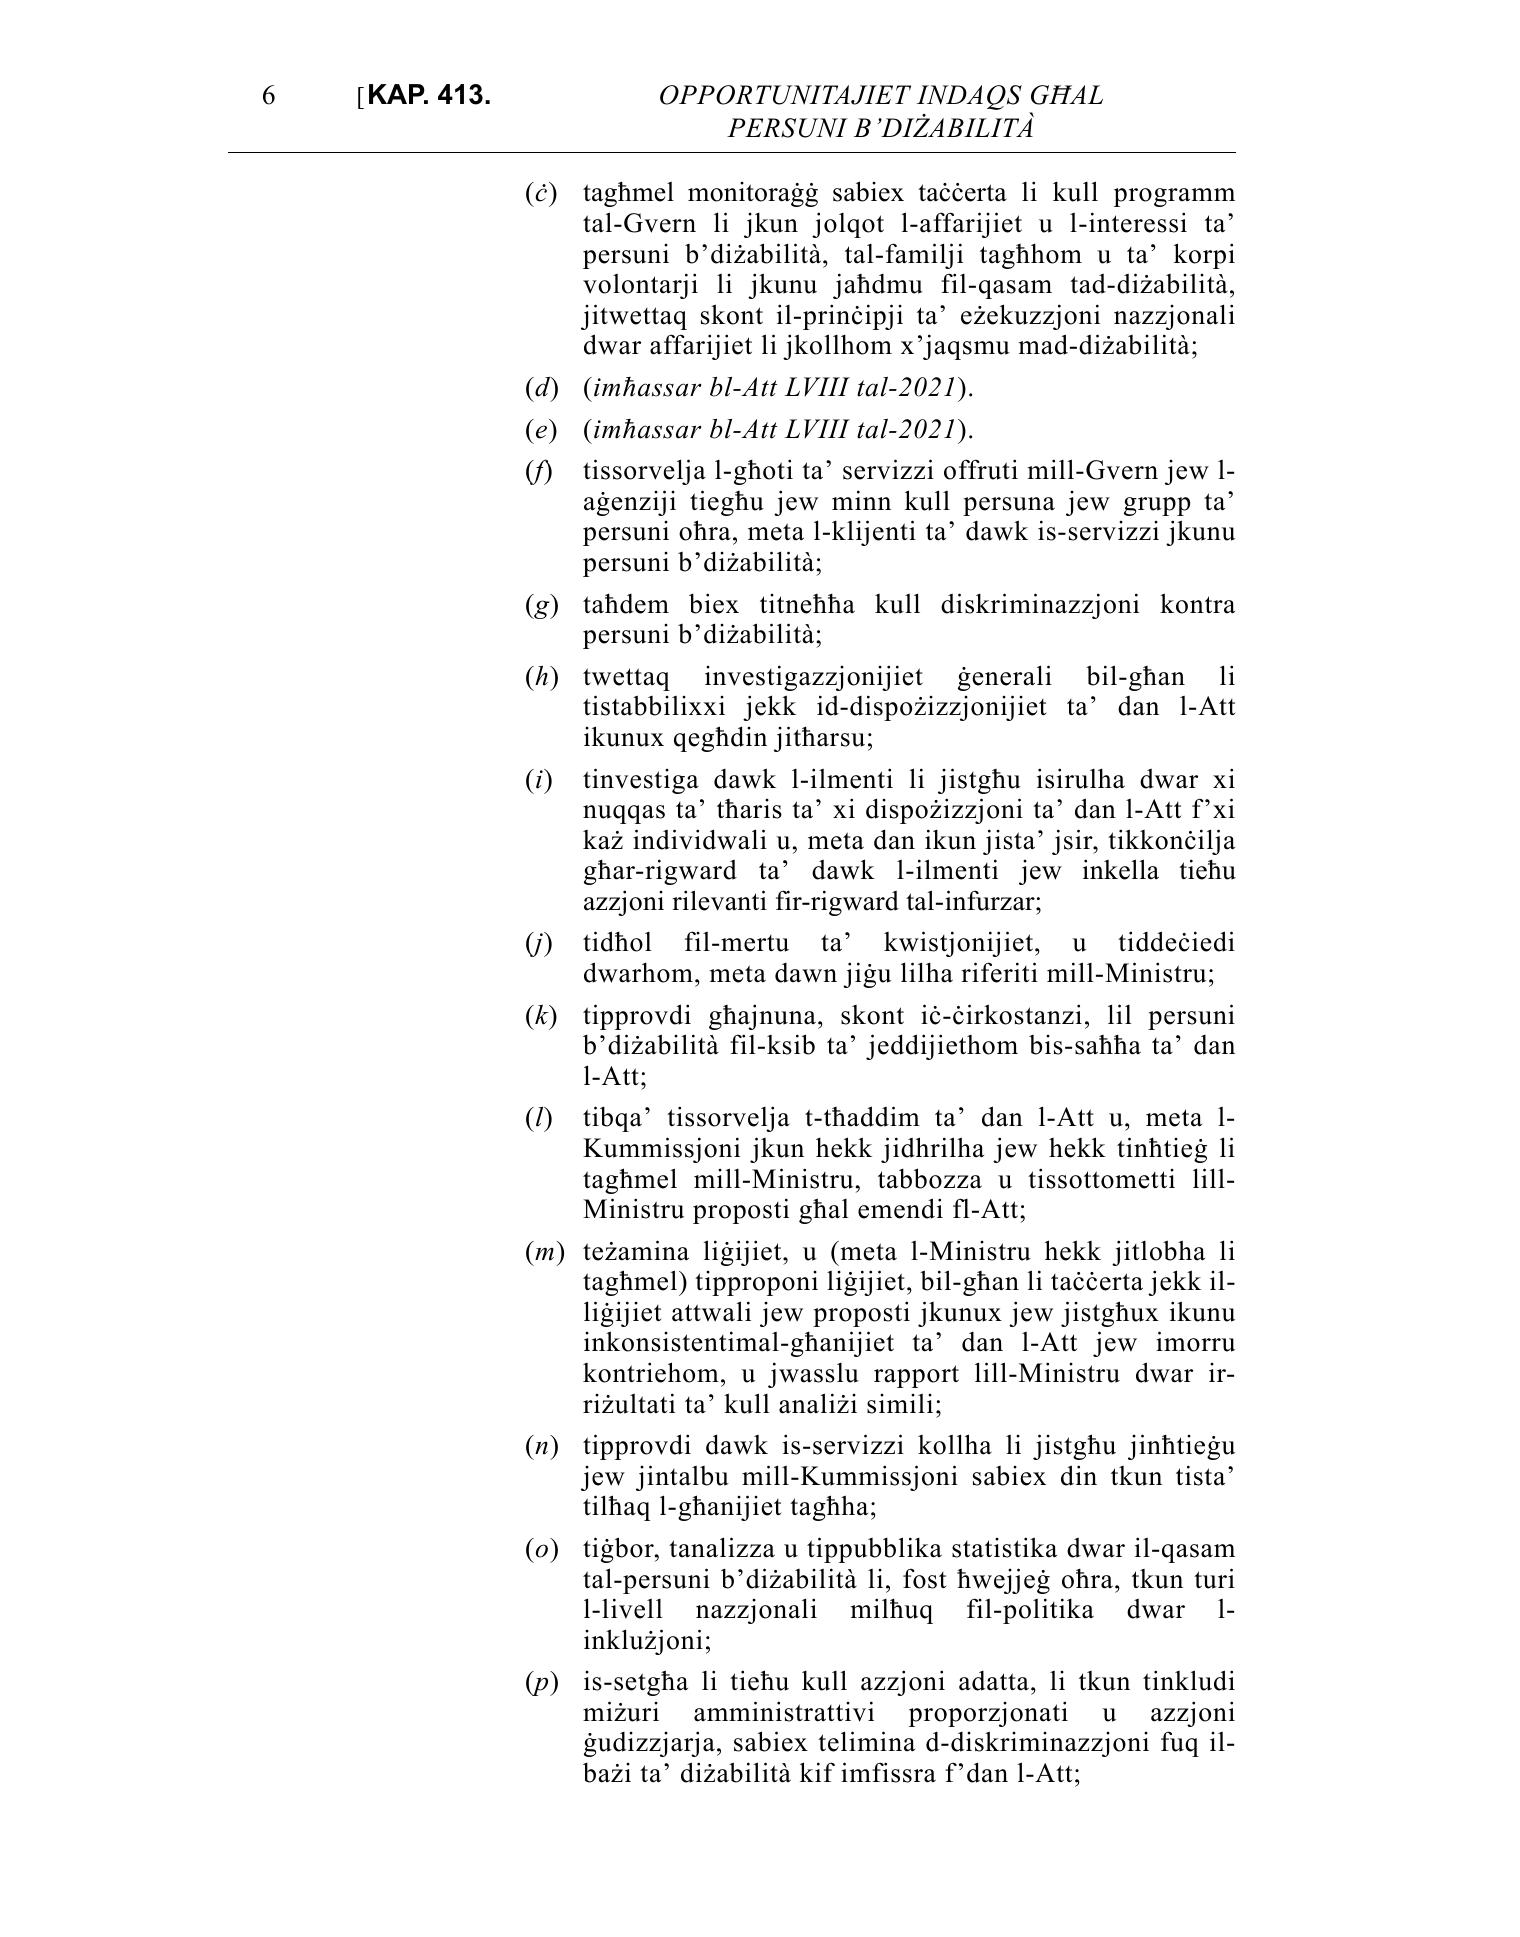text: (508, 164, 1250, 1795)
